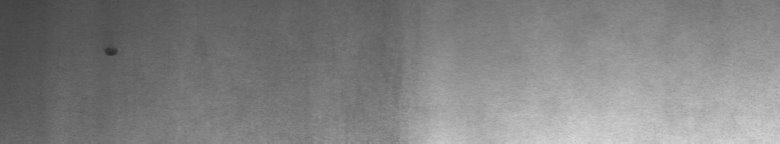fi: (100, 40, 121, 64)
